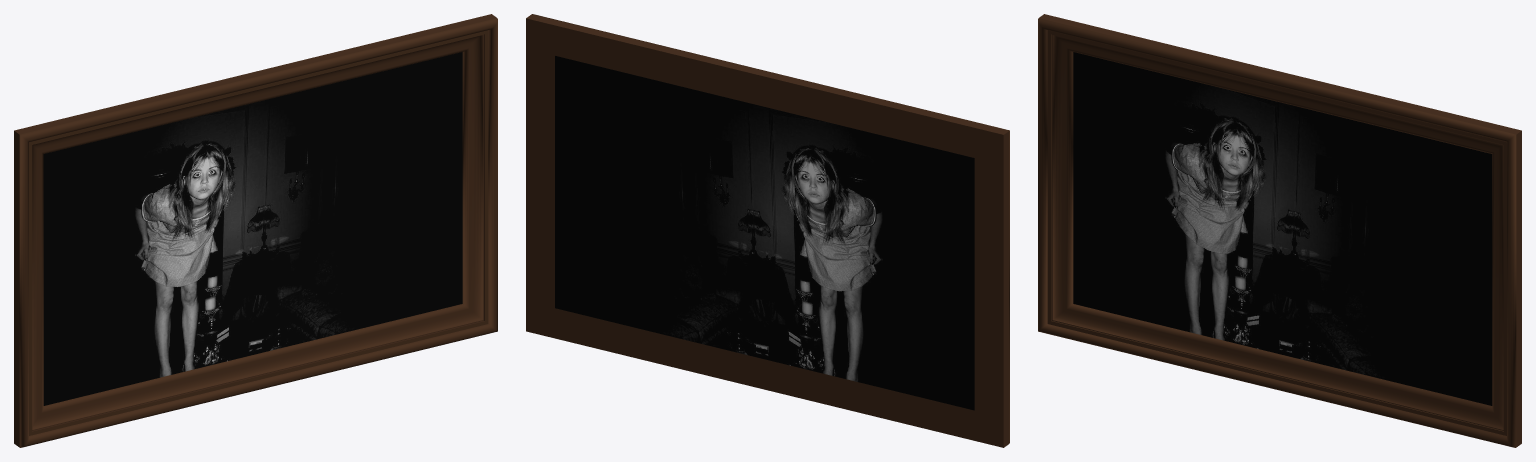
Rendered from photo.FBX.
3 renders of one model, left to right at view 1: azimuth 30°, elevation 25°; view 2: azimuth 150°, elevation 25°; view 3: azimuth 330°, elevation 25°, orthographic.
Visible parts, largest first — view 1: Plane057, photo001; view 2: Plane057, photo001; view 3: Plane057, photo001.
Part boxes in pixels (x1=…): Plane057: x1=43, y1=52, x2=462, y2=405; photo001: x1=14, y1=14, x2=497, y2=447; Plane057: x1=555, y1=56, x2=974, y2=410; photo001: x1=526, y1=14, x2=1009, y2=447; Plane057: x1=1073, y1=52, x2=1492, y2=405; photo001: x1=1038, y1=14, x2=1521, y2=447.
Size of the model in its own units: 14.55 by 9.11 by 0.4268.
Materials: 2 (1 with a texture image).
